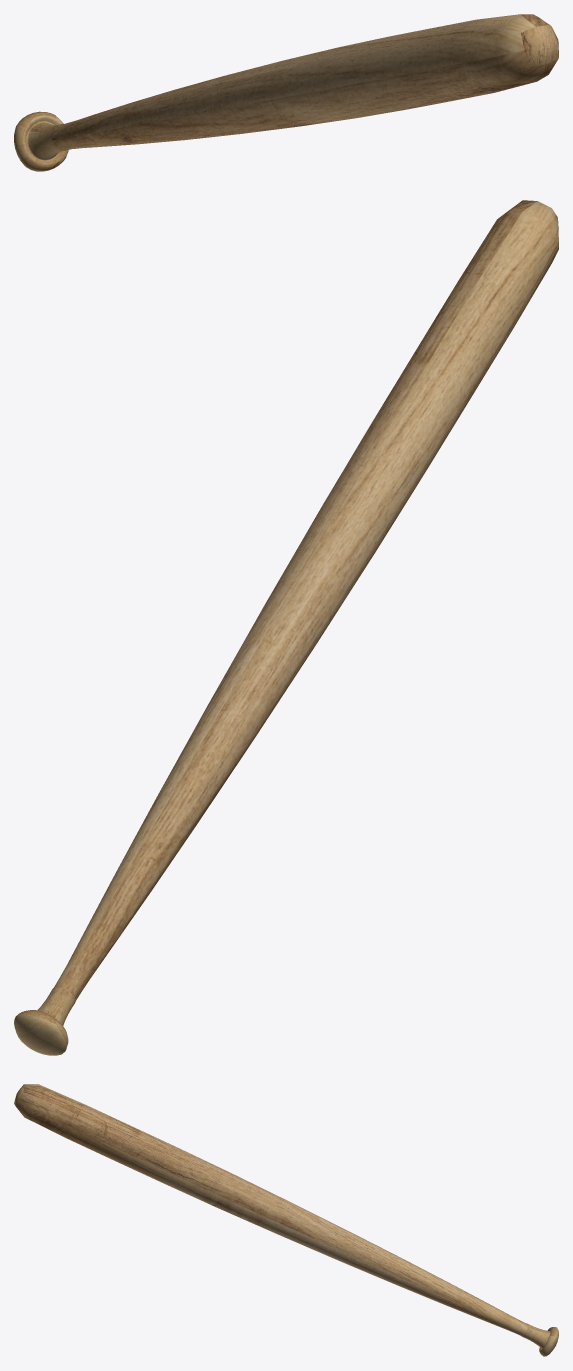
Rendered from wooden_bat.glb.
3 views of the same model, one above another, from view 1: azimuth 30°, elevation 25°; view 2: azimuth 150°, elevation 25°; view 3: azimuth 270°, elevation 25° (orthographic). The views are drawn at different scales.
Visible parts, largest first — view 1: Cylinder.001, Cylinder.002; view 2: Cylinder.001, Cylinder.002; view 3: Cylinder.001, Cylinder.002.
Boxes of the visible parts, x1,y1,x2,y2 form: Cylinder.001: (52,14,558,150); Cylinder.002: (14,111,68,171); Cylinder.001: (54,200,558,1000); Cylinder.002: (14,987,75,1055); Cylinder.001: (14,1084,528,1336); Cylinder.002: (523,1324,558,1356).
Bounding box in the file's own units: 9.89 × 72.47 × 134.
Materials: 1 (1 with a texture image).
